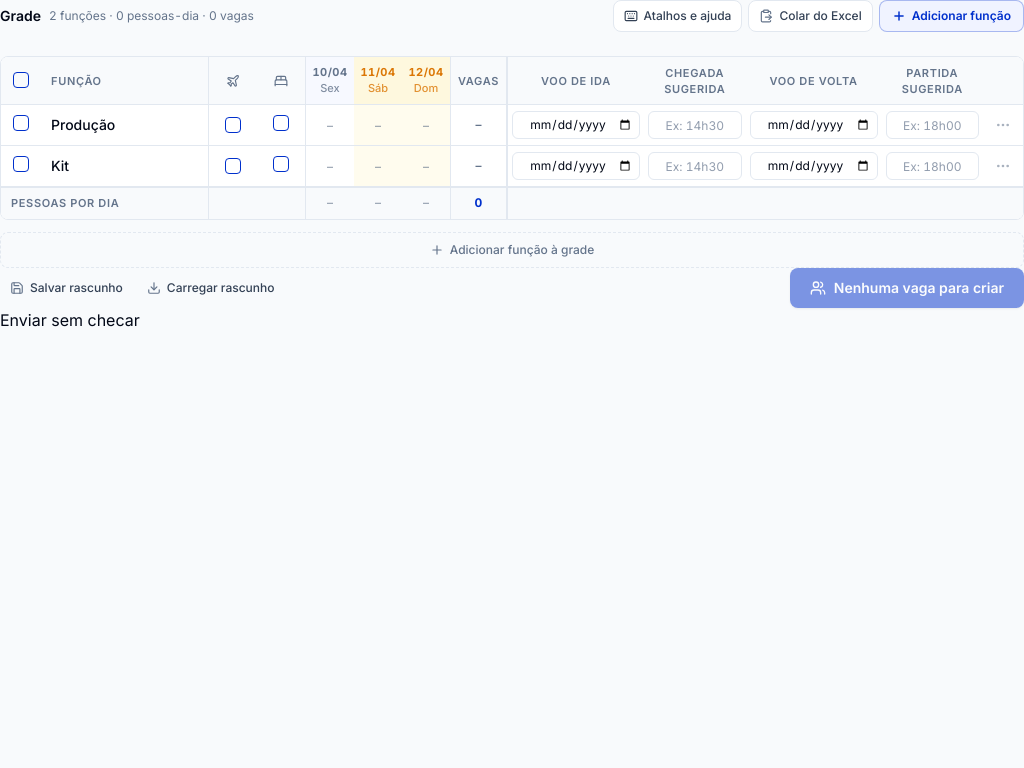
Test: FunctionsGrid › selecionar linhas e 'Excluir (n)' remove as funções da grade; 'Adicionar Função' devolve uma
Step 1. Click the checkbox named "Selecionar Kit" → [21, 164], box [13,156,29,172]
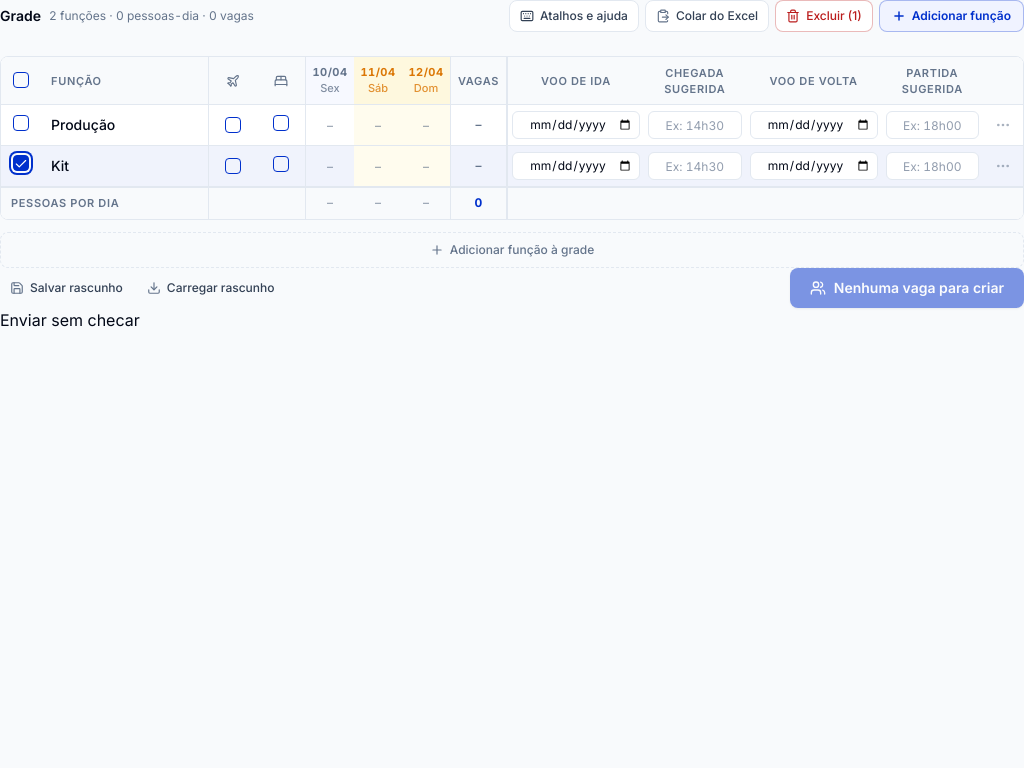
Step 2. Click the button "Excluir (1)" → [824, 16], box [775,0,873,32]
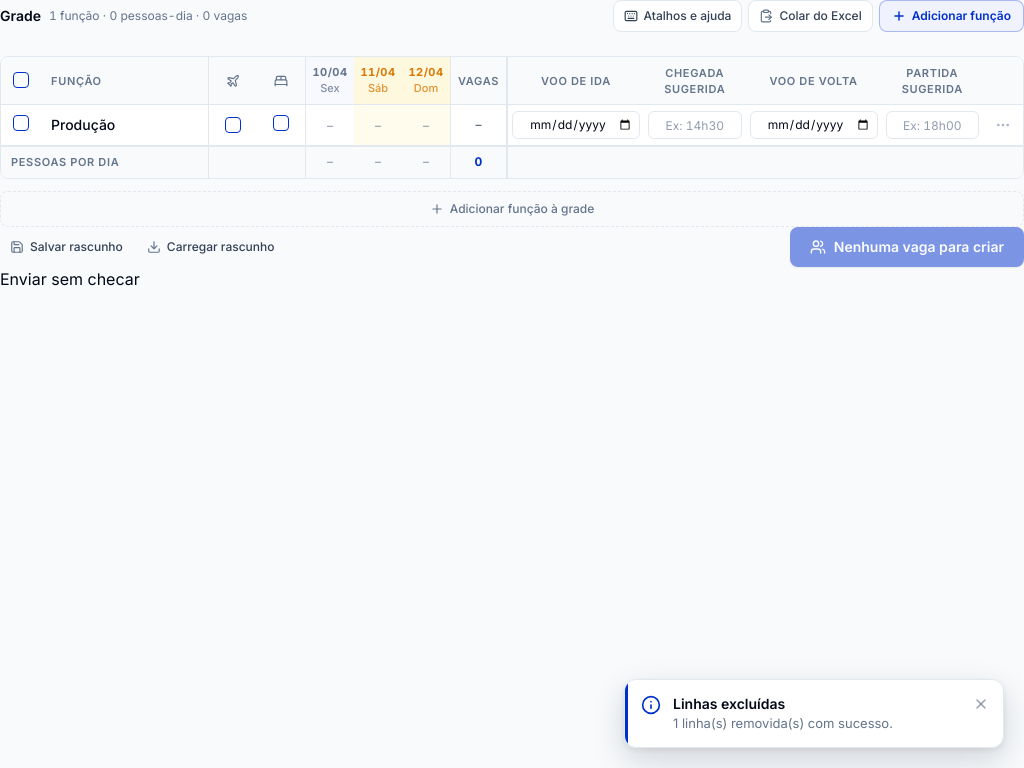
Result: the text titled "Kit" is gone
Result: the text "1 função · 0 pessoas-dia · 0 vagas" is shown at [49,8,247,24]
Step 3. Click the button "Adicionar função" → [951, 16], box [879,0,1023,32]
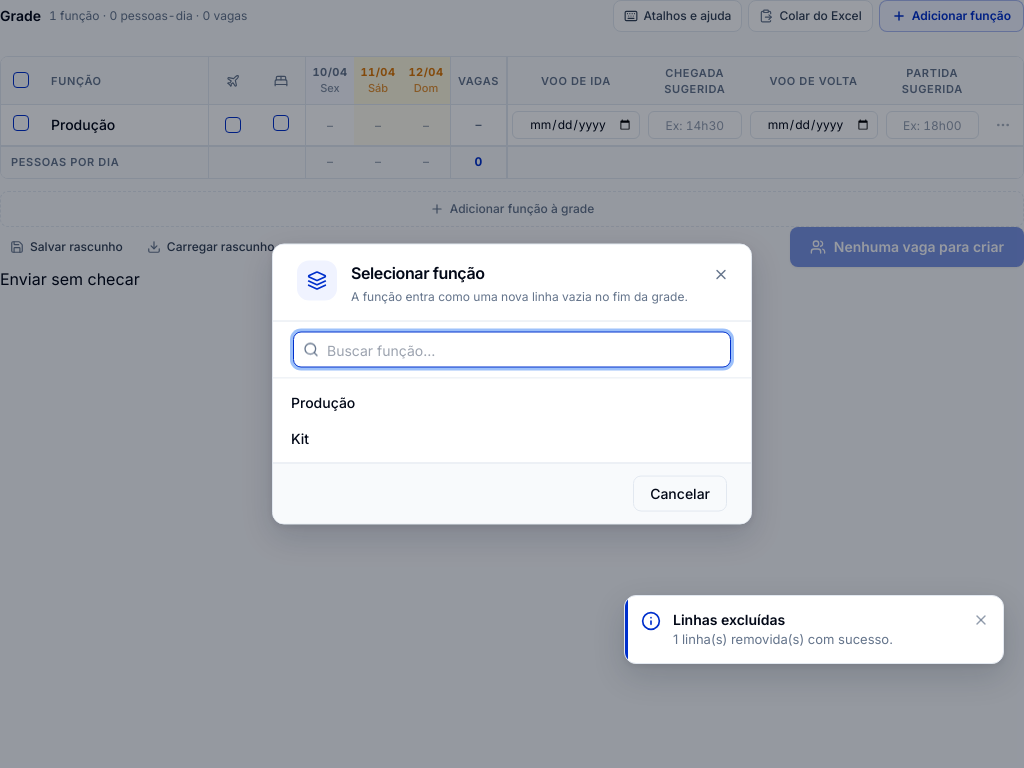
Step 4. Click the button "Kit" → [300, 438], box [279,420,745,456]
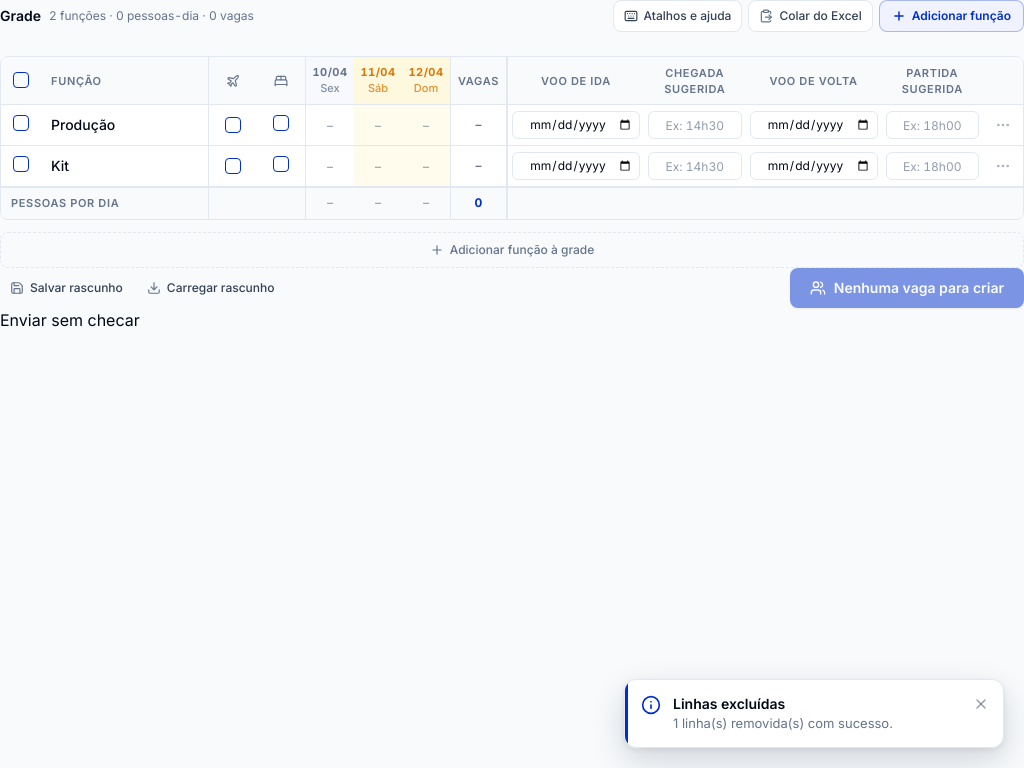
Result: the text titled "Kit" is shown at [51,157,69,174]
Result: the text "2 funções · 0 pessoas-dia · 0 vagas" is shown at [49,8,254,24]
